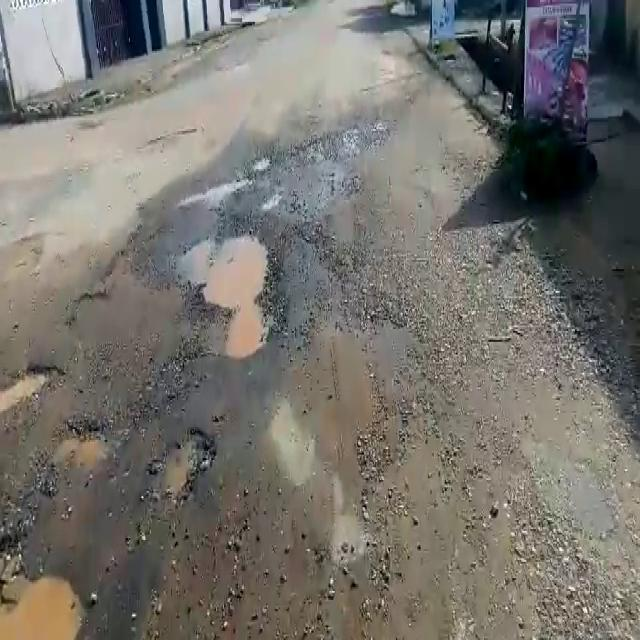pothole: (172, 222, 272, 357), (0, 572, 89, 639), (153, 422, 215, 506), (2, 359, 65, 420)
